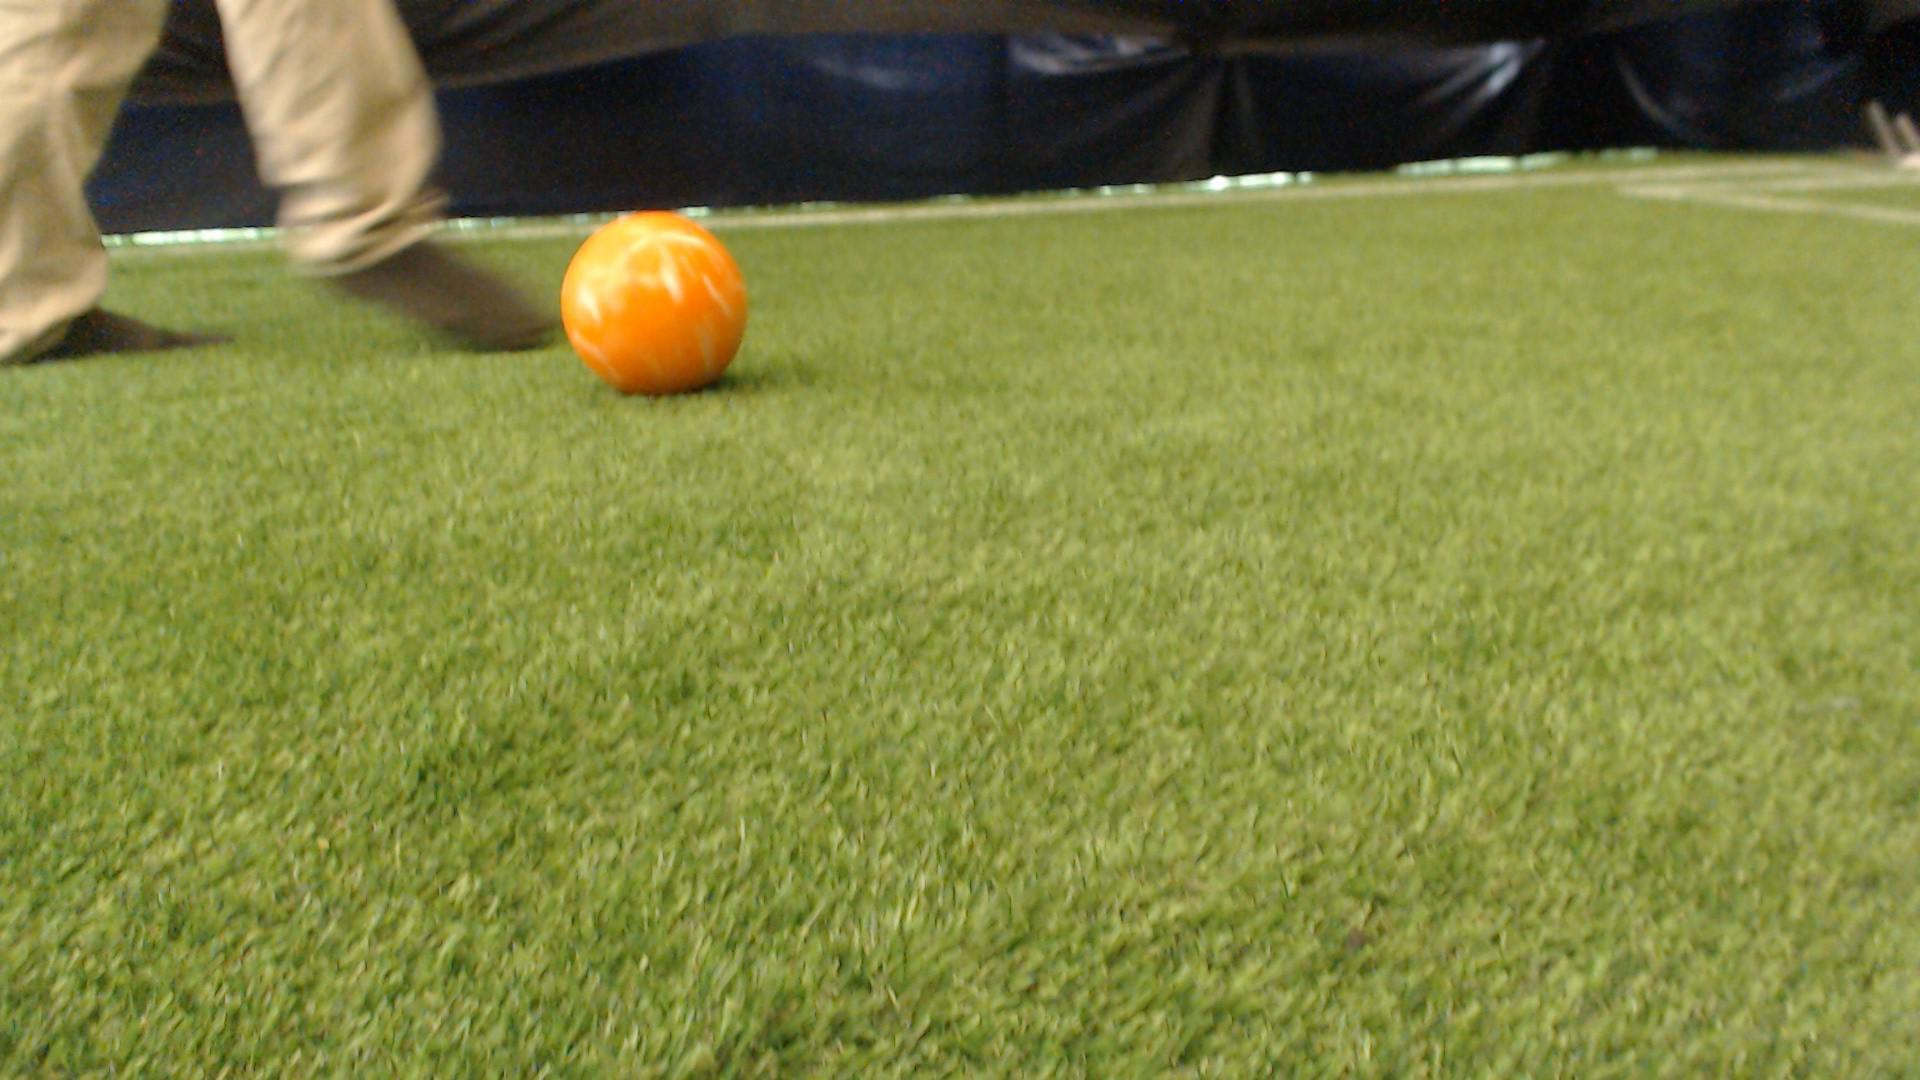bola: (542, 193, 790, 429)
